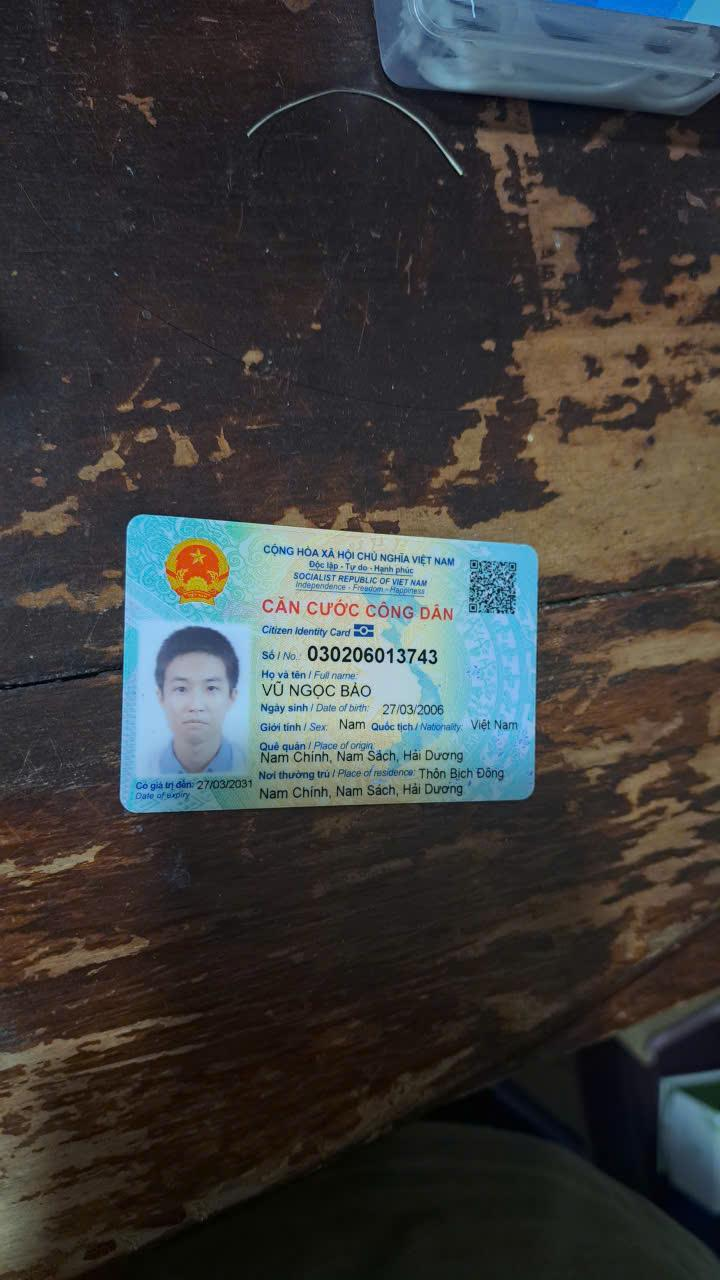cccd: (106, 509, 542, 822)
